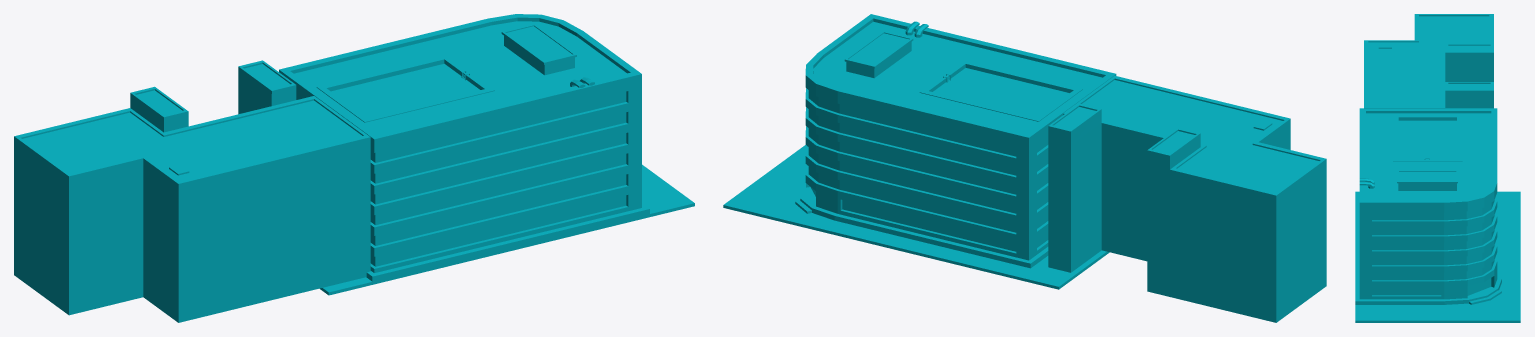
The model's file is shitang1.FBX.
3 renders of one model, left to right at view 1: azimuth 30°, elevation 25°; view 2: azimuth 150°, elevation 25°; view 3: azimuth 270°, elevation 25°, orthographic. The views are drawn at different scales.
Visible parts, largest first — view 1: C区餐厅; view 2: C区餐厅; view 3: C区餐厅.
Boxes of the visible parts, <box> form: C区餐厅: <box>14,14,694,322</box>; C区餐厅: <box>723,14,1326,322</box>; C区餐厅: <box>1355,14,1520,322</box>.
Bounding box in the file's own units: 35.82 × 9.23 × 12.13.
